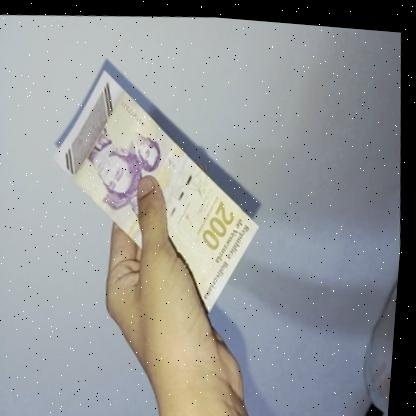two_hundred-front-vef: (40, 51, 278, 325)
